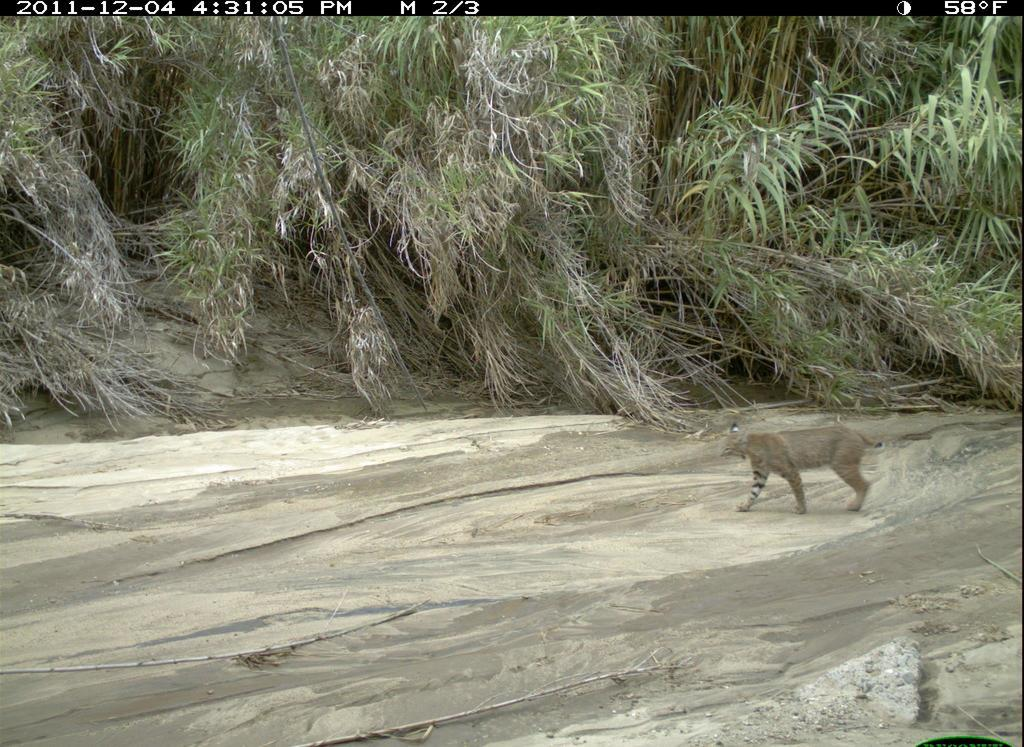bobcat: (713, 417, 902, 521)
